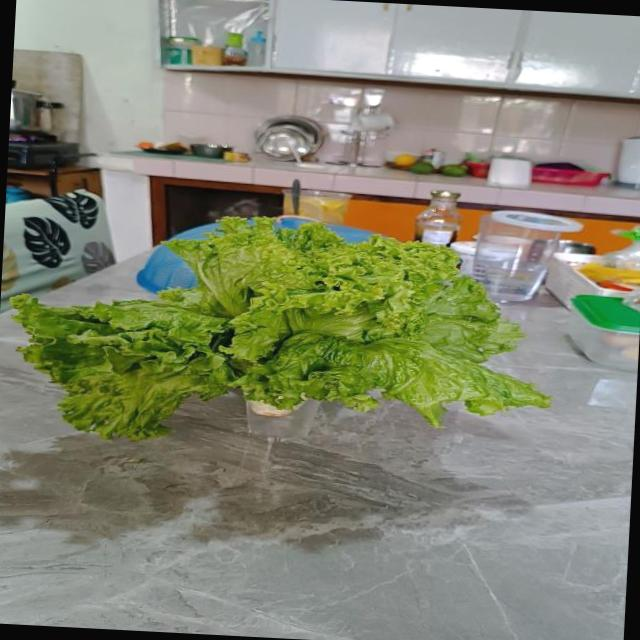Lettuce-Ready-to-Harvest: (12, 218, 549, 439)
